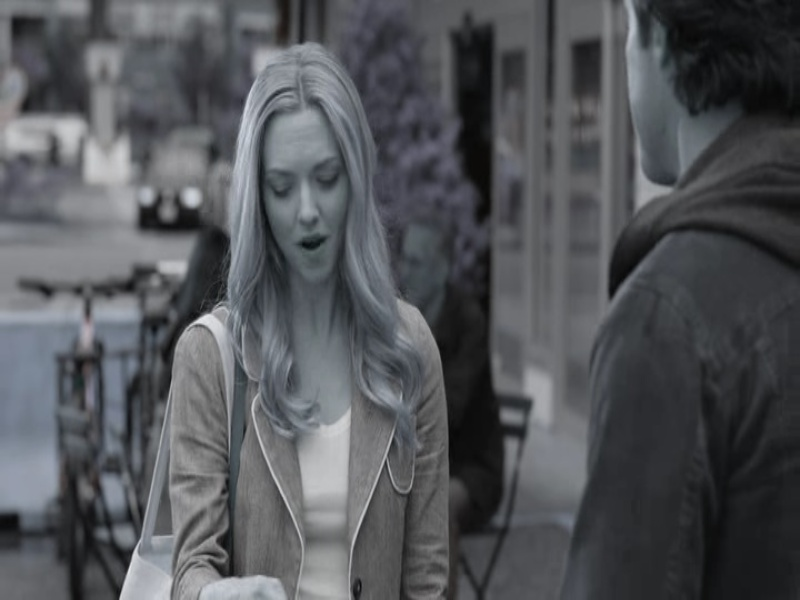TsisyArotava: (233, 61, 360, 291)
